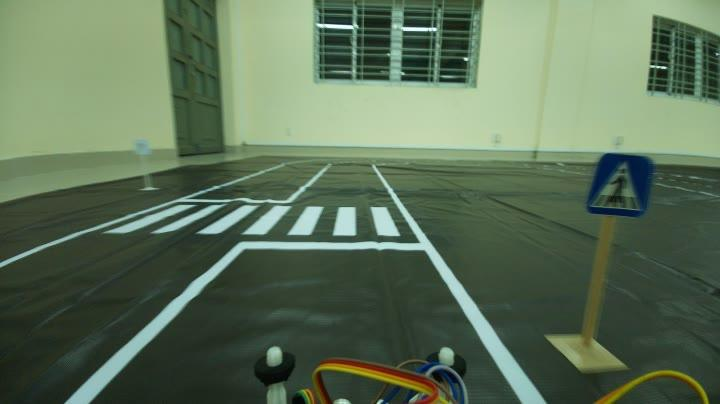crosswalk: (584, 145, 664, 228)
